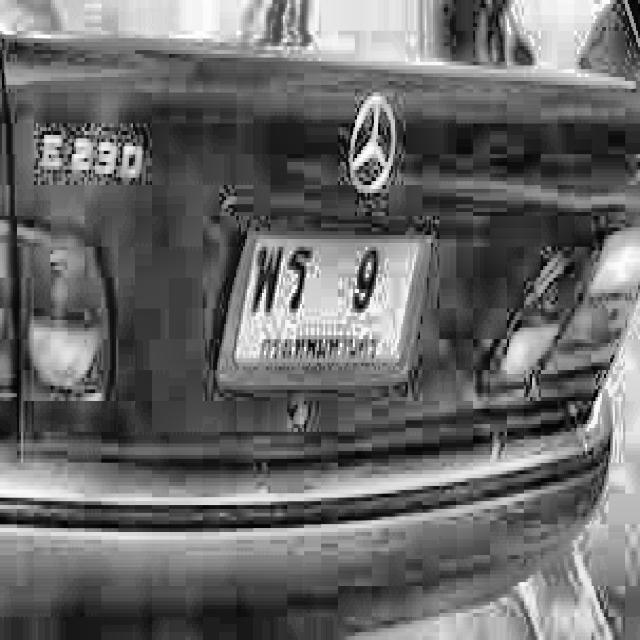license-plate: (185, 186, 456, 425)
